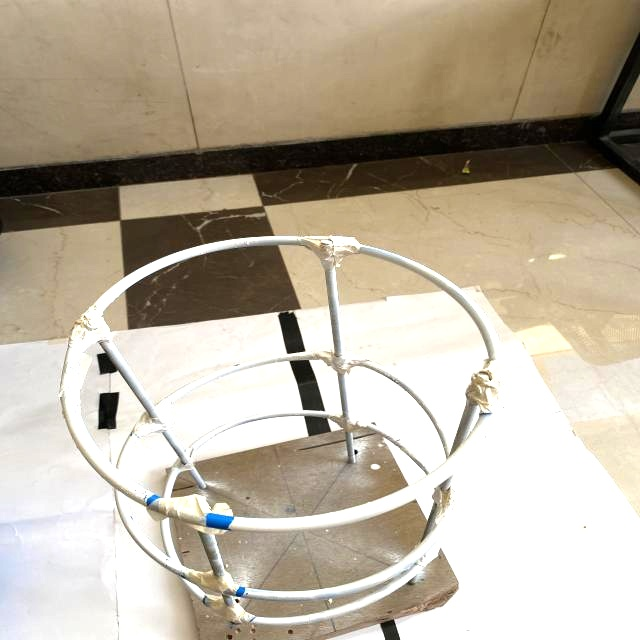silo: (34, 229, 543, 640)
